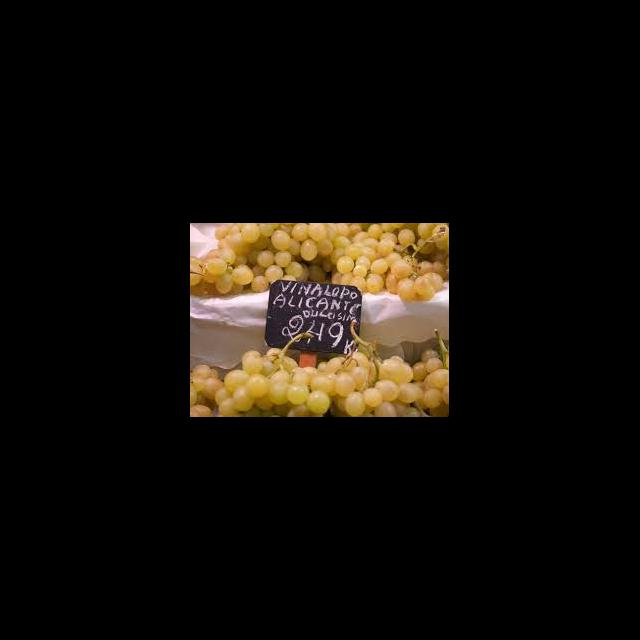grape: (190, 223, 448, 302)
